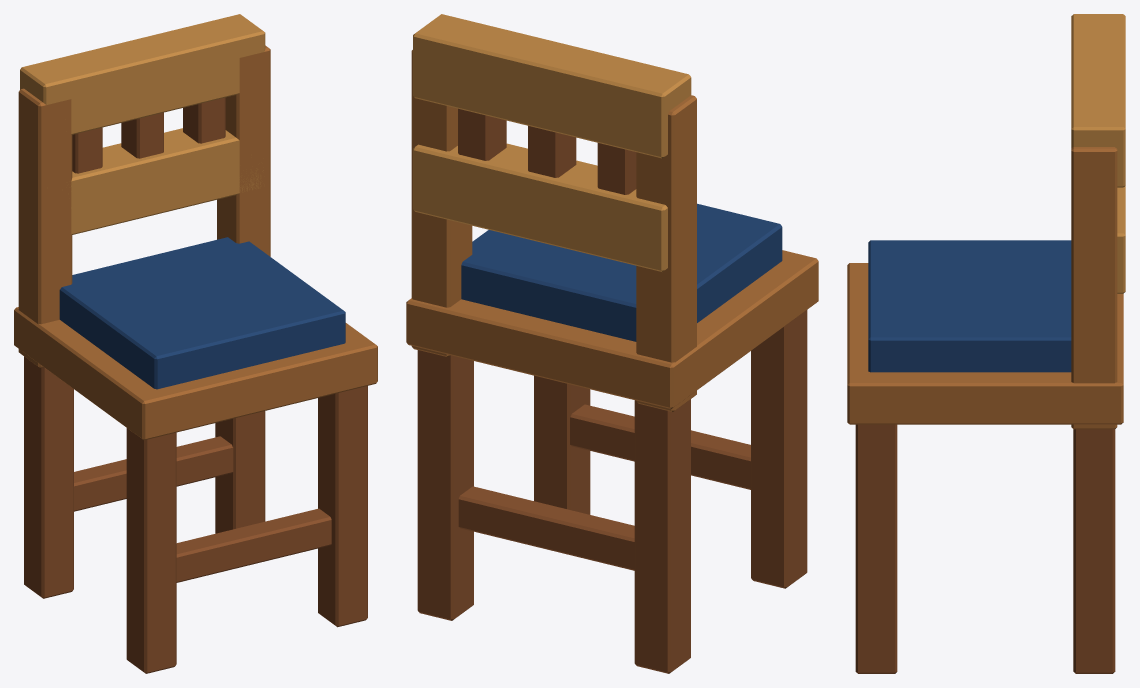
File: blue_chair.glb
The picture shows the model from 3 angles, left to right: view 1: azimuth 30°, elevation 25°; view 2: azimuth 150°, elevation 25°; view 3: azimuth 270°, elevation 25°; orthographic projection. The views are drawn at different scales.
Parts seen in each view (by area): view 1: blue_chair__body__oak, blue_chair__body__oak2, blue_chair__body__navy, blue_chair__body__oak3; view 2: blue_chair__body__oak, blue_chair__body__oak2, blue_chair__body__oak3, blue_chair__body__navy; view 3: blue_chair__body__oak2, blue_chair__body__navy, blue_chair__body__oak, blue_chair__body__oak3.
Boxes of the visible parts, x1,y1,x2,y2 form: blue_chair__body__oak: [24, 97, 367, 673]; blue_chair__body__oak2: [14, 45, 377, 440]; blue_chair__body__navy: [59, 237, 345, 389]; blue_chair__body__oak3: [20, 14, 265, 234]; blue_chair__body__oak: [417, 108, 807, 673]; blue_chair__body__oak2: [406, 50, 818, 412]; blue_chair__body__oak3: [413, 14, 691, 271]; blue_chair__body__navy: [461, 203, 782, 341]; blue_chair__body__oak2: [847, 147, 1123, 429]; blue_chair__body__navy: [868, 240, 1071, 372]; blue_chair__body__oak: [855, 424, 1115, 673]; blue_chair__body__oak3: [1071, 14, 1125, 293].
Size of the model in its own units: 0.69 by 1.44 by 0.665.
